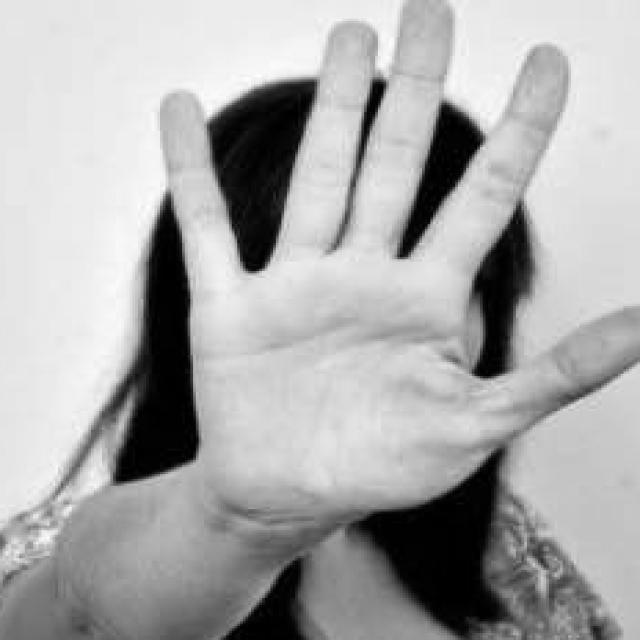stop: (149, 0, 640, 530)
